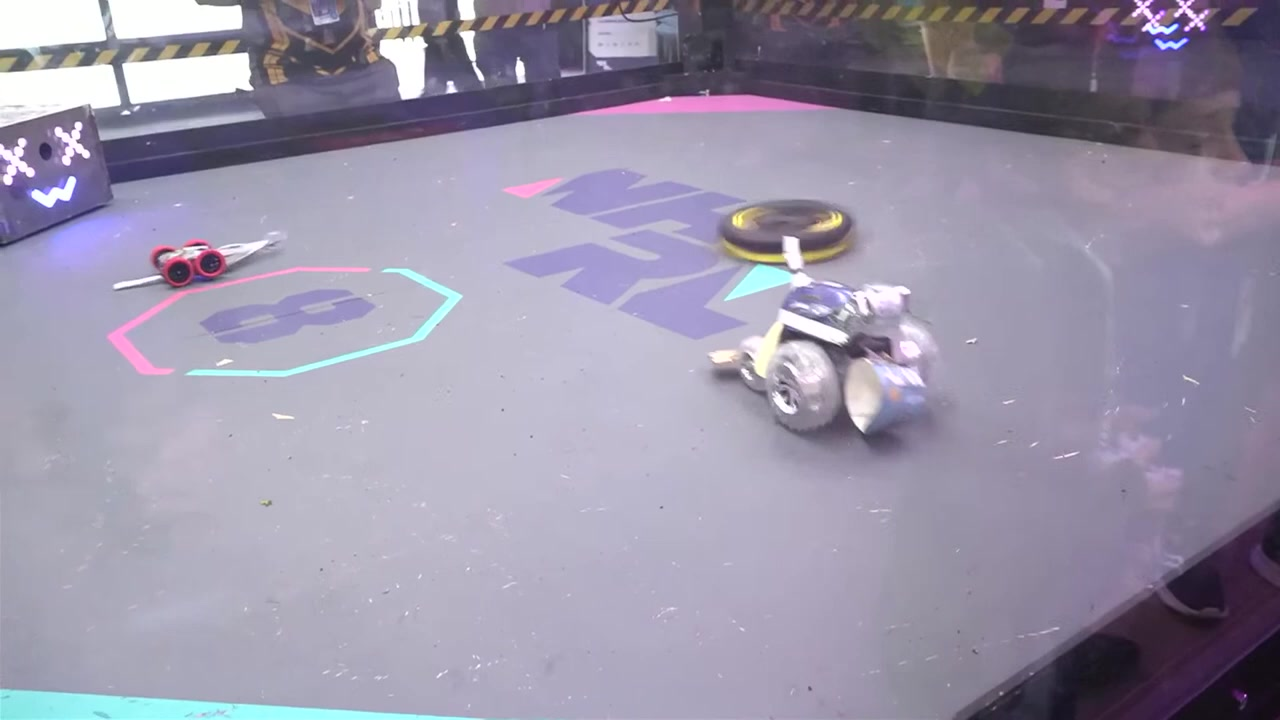combatbot: (705, 277, 932, 437), (717, 200, 858, 274)
housebot: (0, 101, 114, 252)
minibot: (113, 234, 286, 290)
